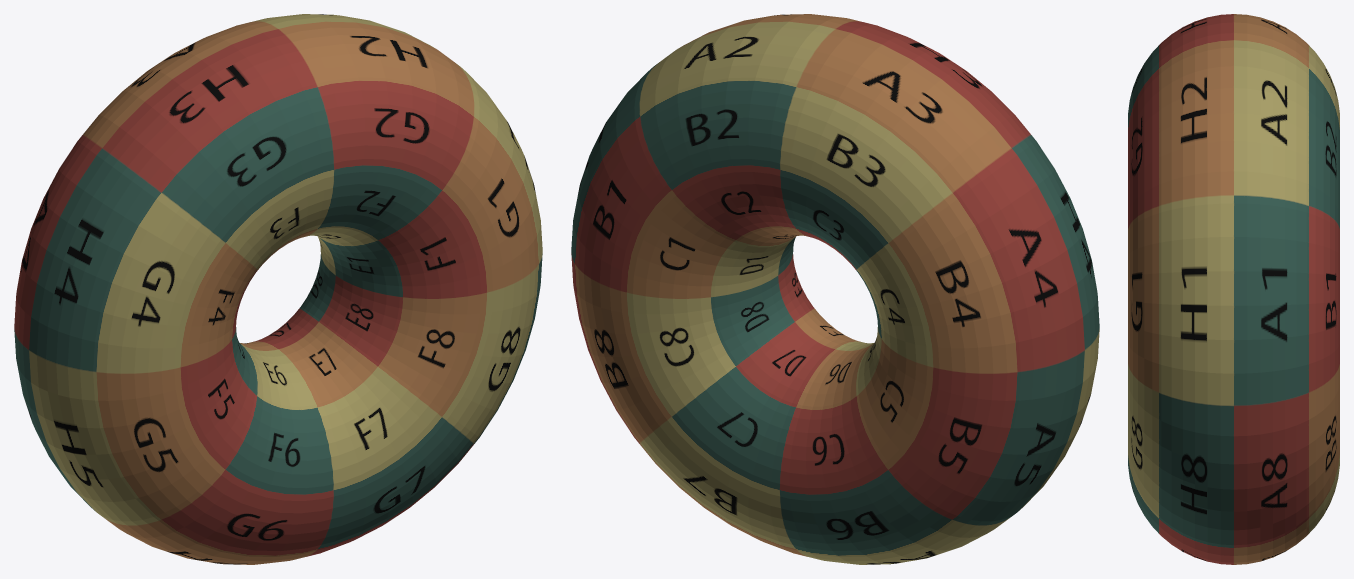
Rendered from texture_torus_R0_r16.glb.
The picture shows the model from 3 angles, left to right: view 1: azimuth 30°, elevation 25°; view 2: azimuth 150°, elevation 25°; view 3: azimuth 270°, elevation 25°; orthographic projection. The views are drawn at different scales.
Parts seen in each view (by area): view 1: world; view 2: world; view 3: world.
Boxes of the visible parts, x1,y1,x2,y2 form: world: (14, 14, 542, 564); world: (571, 14, 1099, 564); world: (1128, 14, 1339, 564).
Bounding box in the file's own units: 16.27 × 16.23 × 6.25.
1 material, 1 textured.
